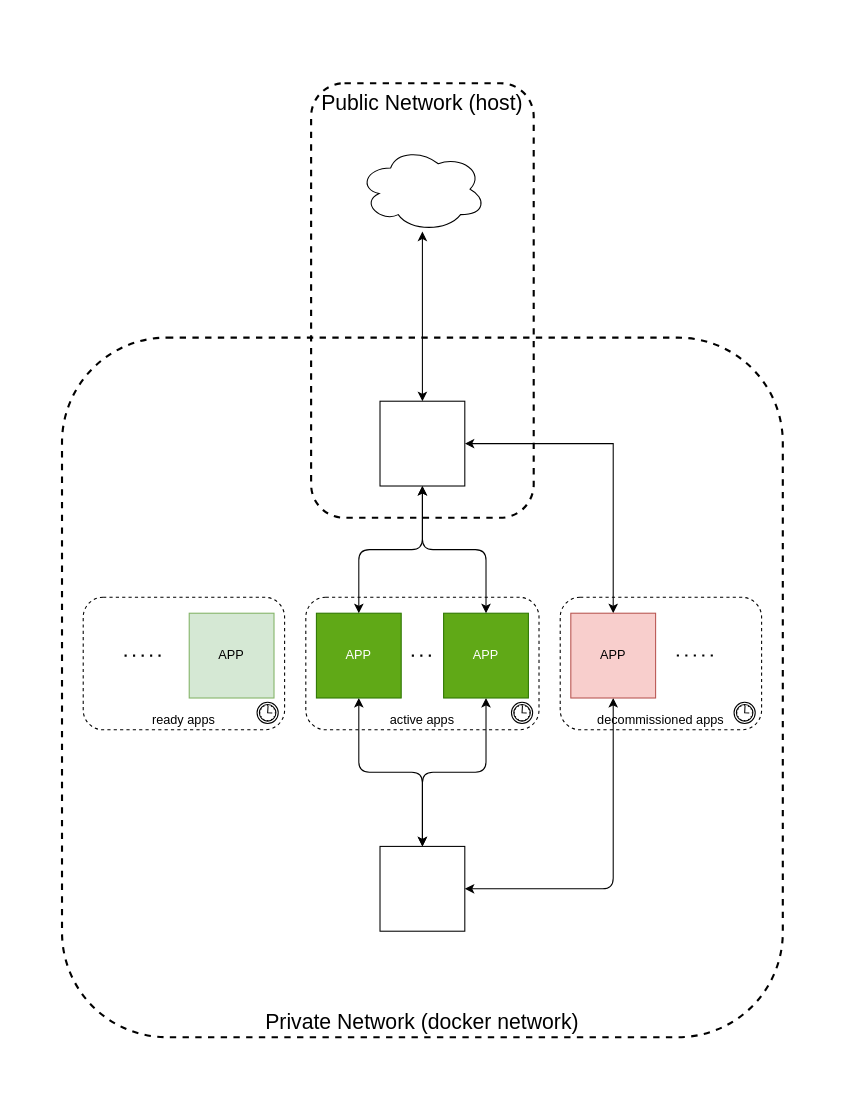
Image size: 846x1100. Some labels were removed from this diagram. Here are the shapes that lost their labels. From the top down, the centre of each, then its label:
pixel 422 443: Load Balancer
pixel 422 888: Session Manager
